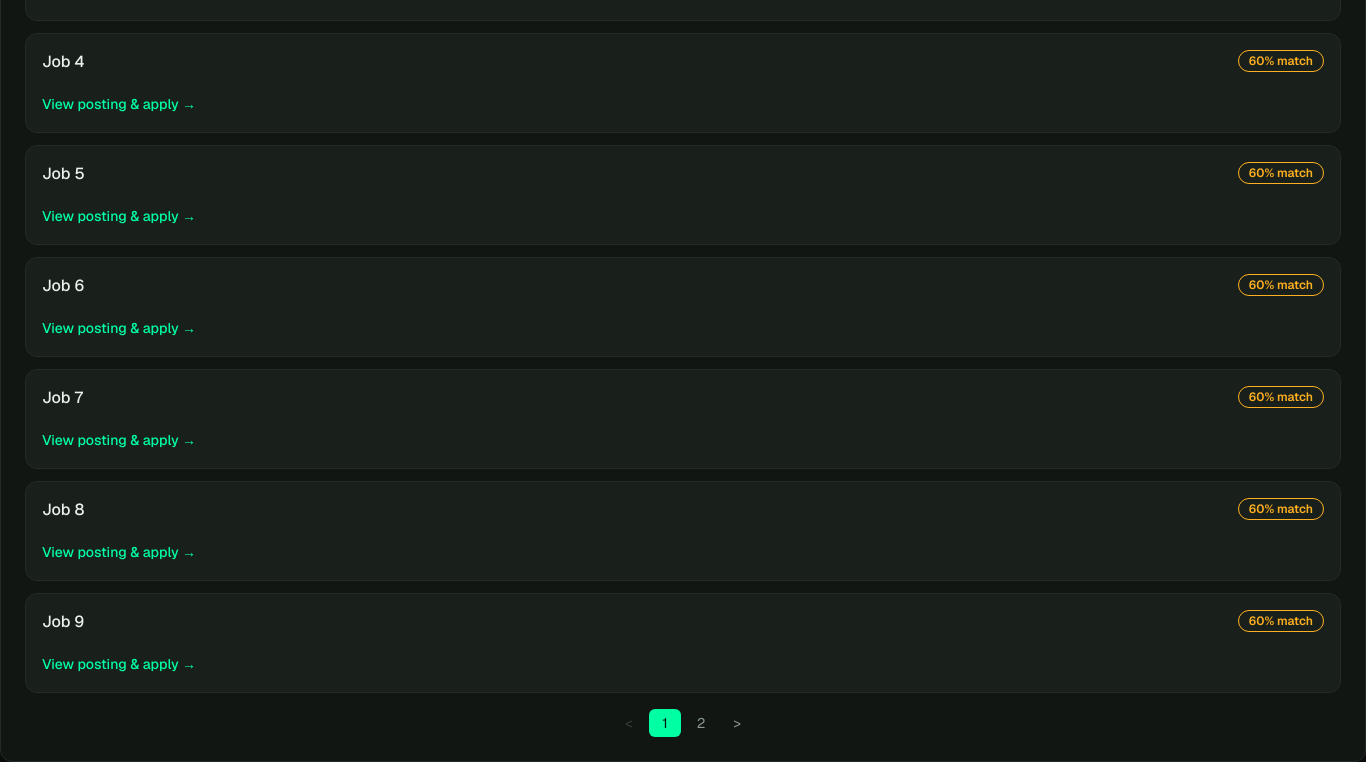
Test: ResultsPanel › paginates once there are more than 10 revealed results, and switching pages works
(page scrolled)
Check: the text "Job 10" is not shown
Click the button "2" at (701, 723), box [685,709,717,737]
(page scrolled)
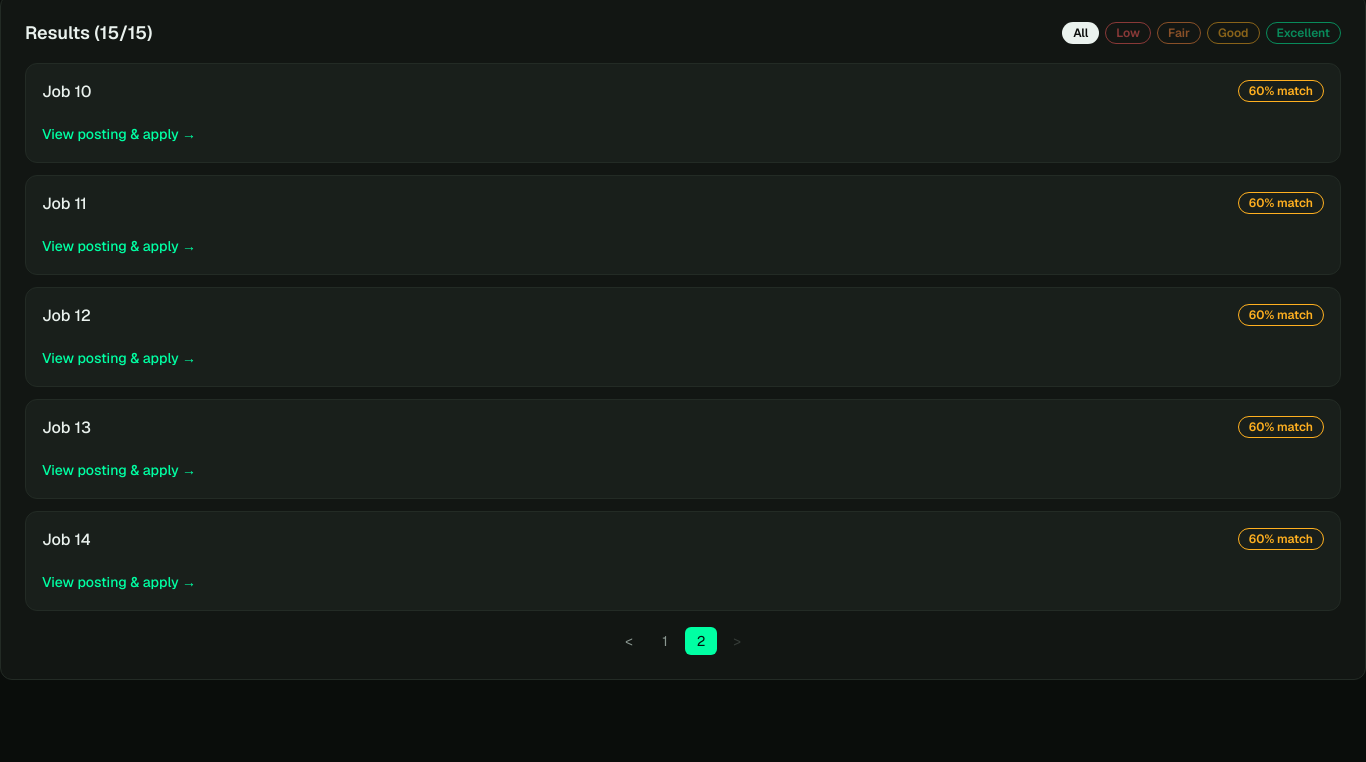
Check: the text "Job 10" is shown, box [42,81,92,102]
